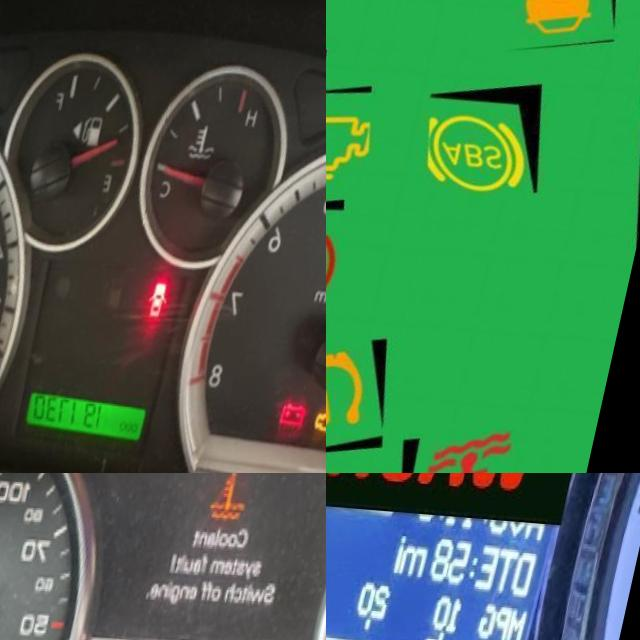High Engine Coolant Temperature: (218, 473, 269, 521)
